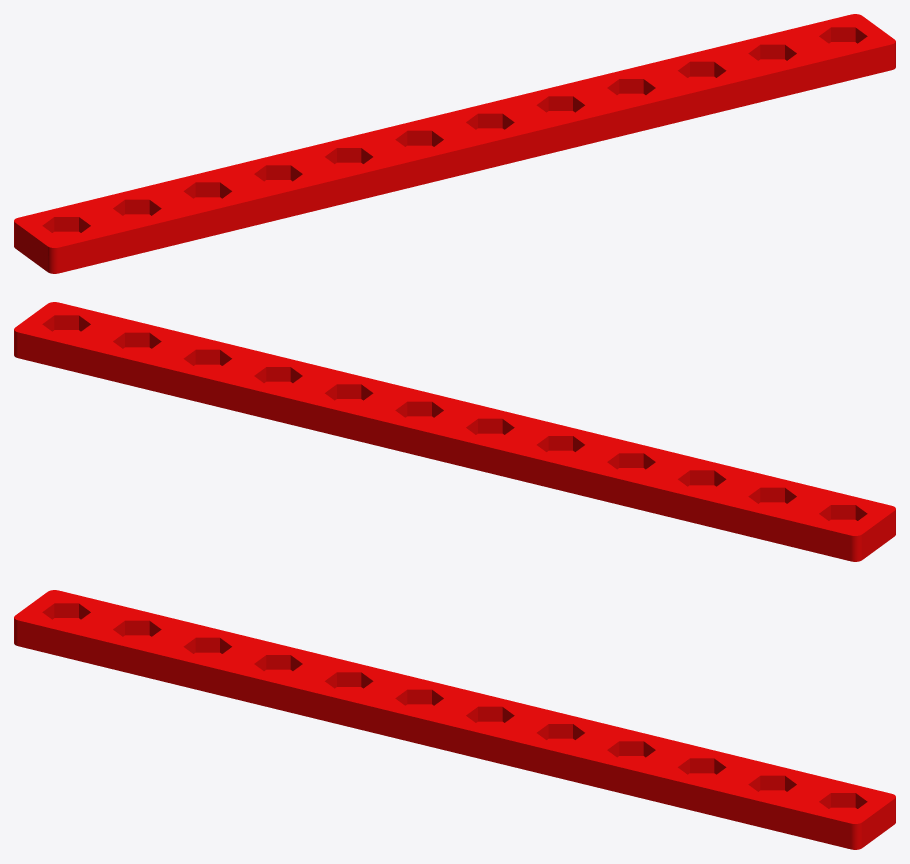
Rendered from S12_red.glb.
The picture shows the model from 3 angles, top to bottom: view 1: azimuth 30°, elevation 25°; view 2: azimuth 150°, elevation 25°; view 3: azimuth 330°, elevation 25°; orthographic projection.
Visible parts, largest first — view 1: S12; view 2: S12; view 3: S12.
Boxes of the visible parts, <box> form: S12: <box>14,14,895,273</box>; S12: <box>14,302,895,561</box>; S12: <box>14,590,895,849</box>.
Size of the model in its own units: 0.12 by 0.0035 by 0.01.
